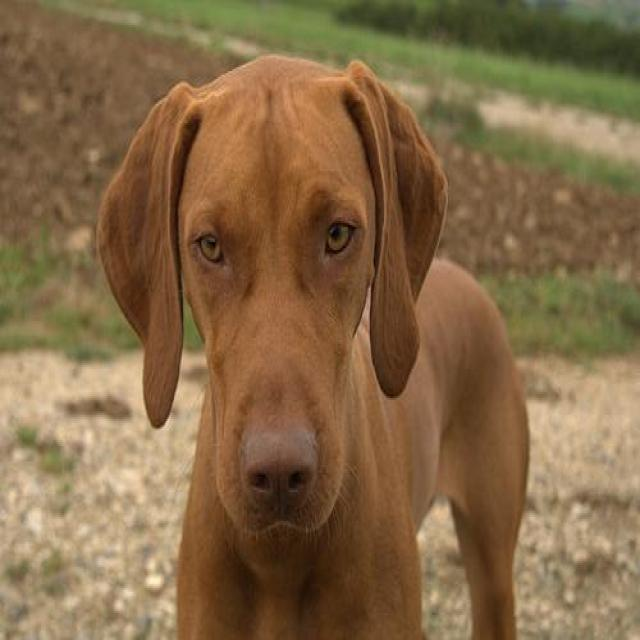vizsla: (95, 54, 531, 638)
